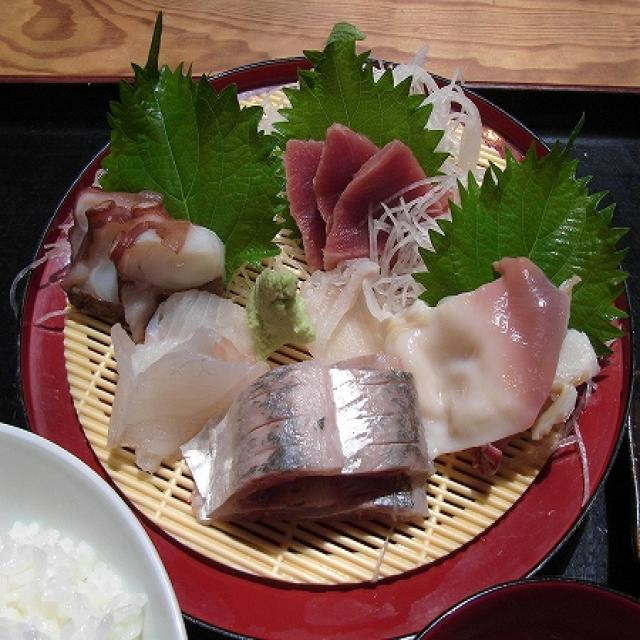刺身生食: (27, 89, 614, 557)
